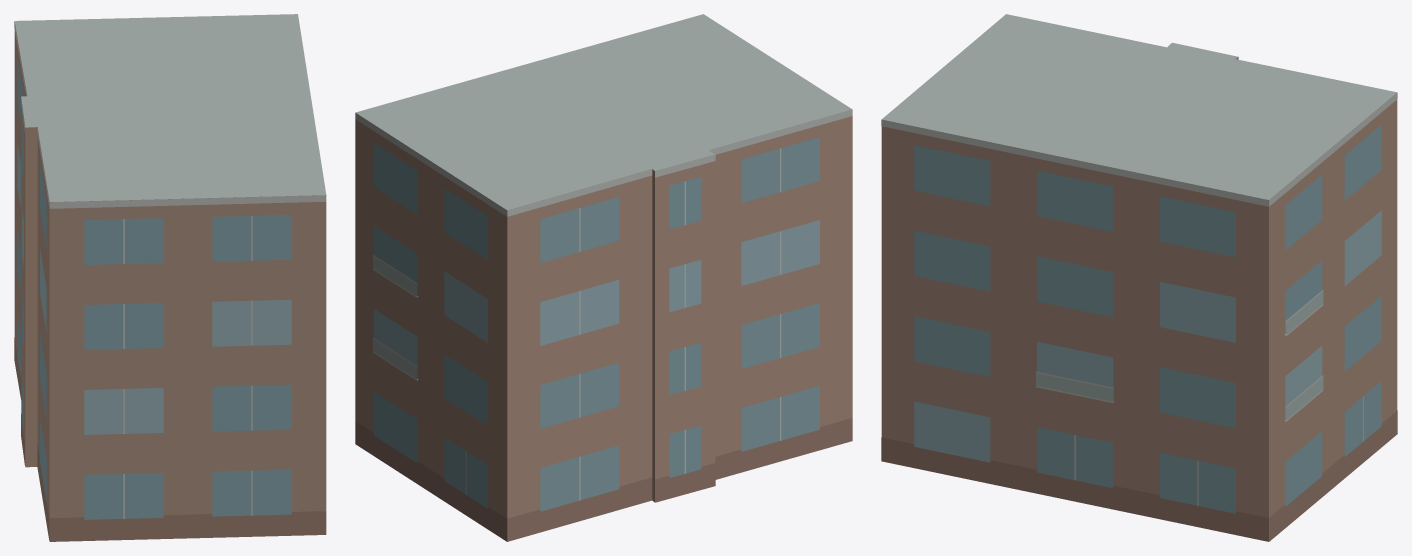
Rendered from survey-upis-32533425.glb.
The picture shows the model from 3 angles, left to right: view 1: azimuth 30°, elevation 25°; view 2: azimuth 150°, elevation 25°; view 3: azimuth 270°, elevation 25°; orthographic projection. The views are drawn at different scales.
Parts seen in each view (by area): view 1: survey-upis-32533425.tmp; view 2: survey-upis-32533425.tmp; view 3: survey-upis-32533425.tmp.
Part boxes in pixels (left/top/right/bottom): survey-upis-32533425.tmp: left=14, top=14, right=326, bottom=541; survey-upis-32533425.tmp: left=355, top=14, right=852, bottom=541; survey-upis-32533425.tmp: left=881, top=14, right=1397, bottom=541.
Size of the model in its own units: 14.49 by 12.4 by 16.98.
